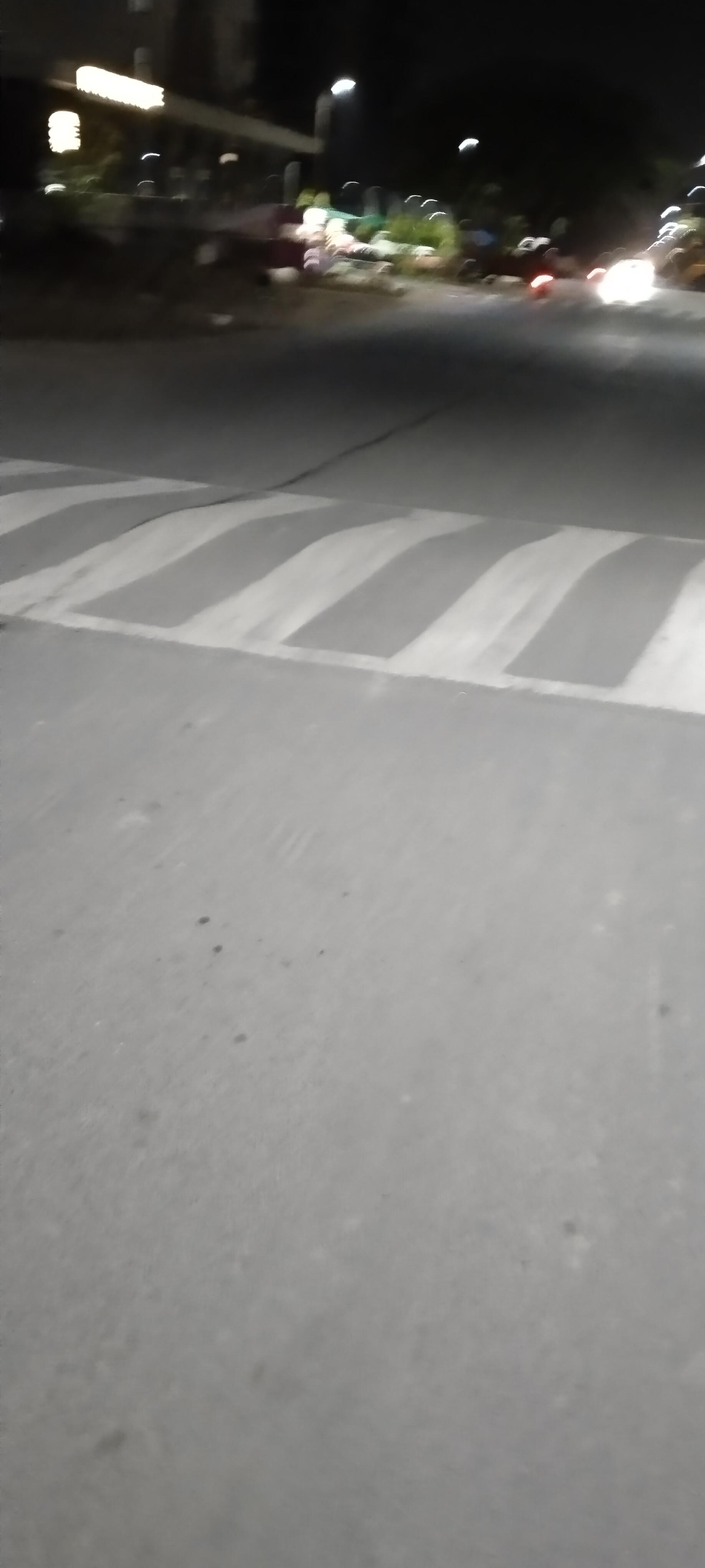crosswalk: (0, 459, 705, 723)
